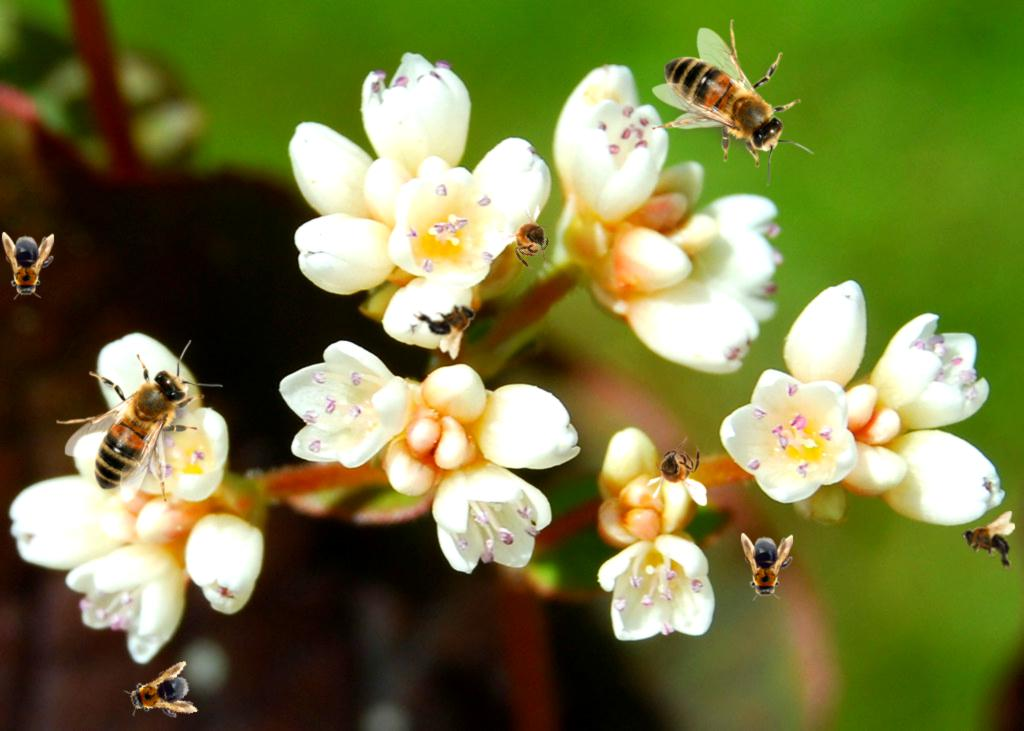Bee: (56, 340, 223, 502), (652, 19, 814, 186), (482, 190, 575, 284), (410, 281, 491, 363), (120, 660, 200, 730), (646, 436, 707, 506), (741, 533, 793, 601), (2, 232, 54, 300), (962, 511, 1015, 573)
